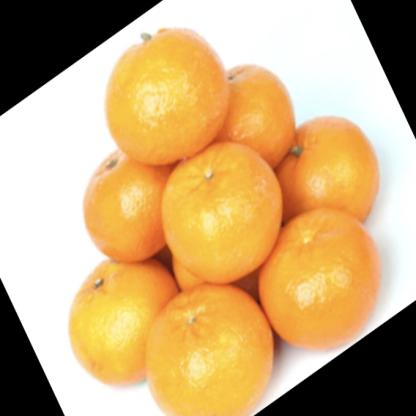fresh: (79, 28, 385, 416)
